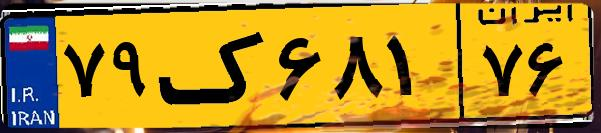1: (385, 28, 445, 110)
6: (270, 28, 330, 110), (525, 38, 570, 115)
7: (57, 26, 110, 100), (475, 38, 525, 113)
8: (330, 28, 385, 110)
9: (110, 28, 158, 98)
ک: (158, 12, 270, 120)
